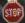Stop sign: (0, 0, 24, 22)
